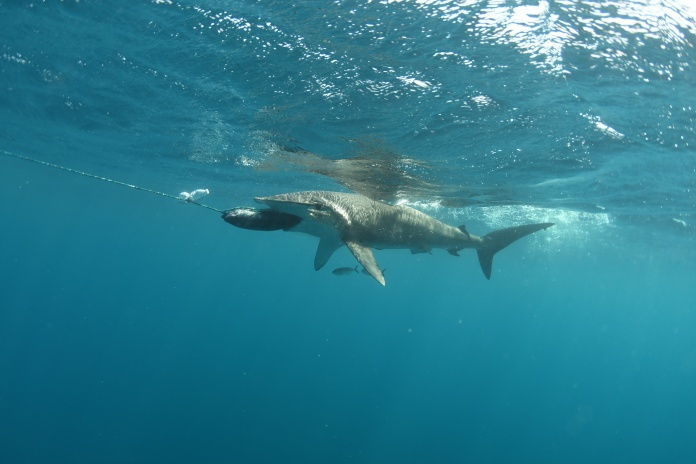Hammer: (253, 164, 564, 303)
